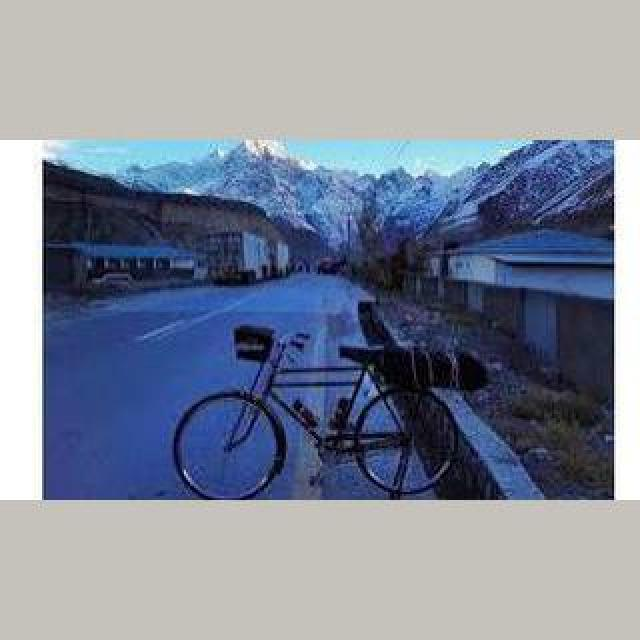Person: (169, 326, 465, 500)
